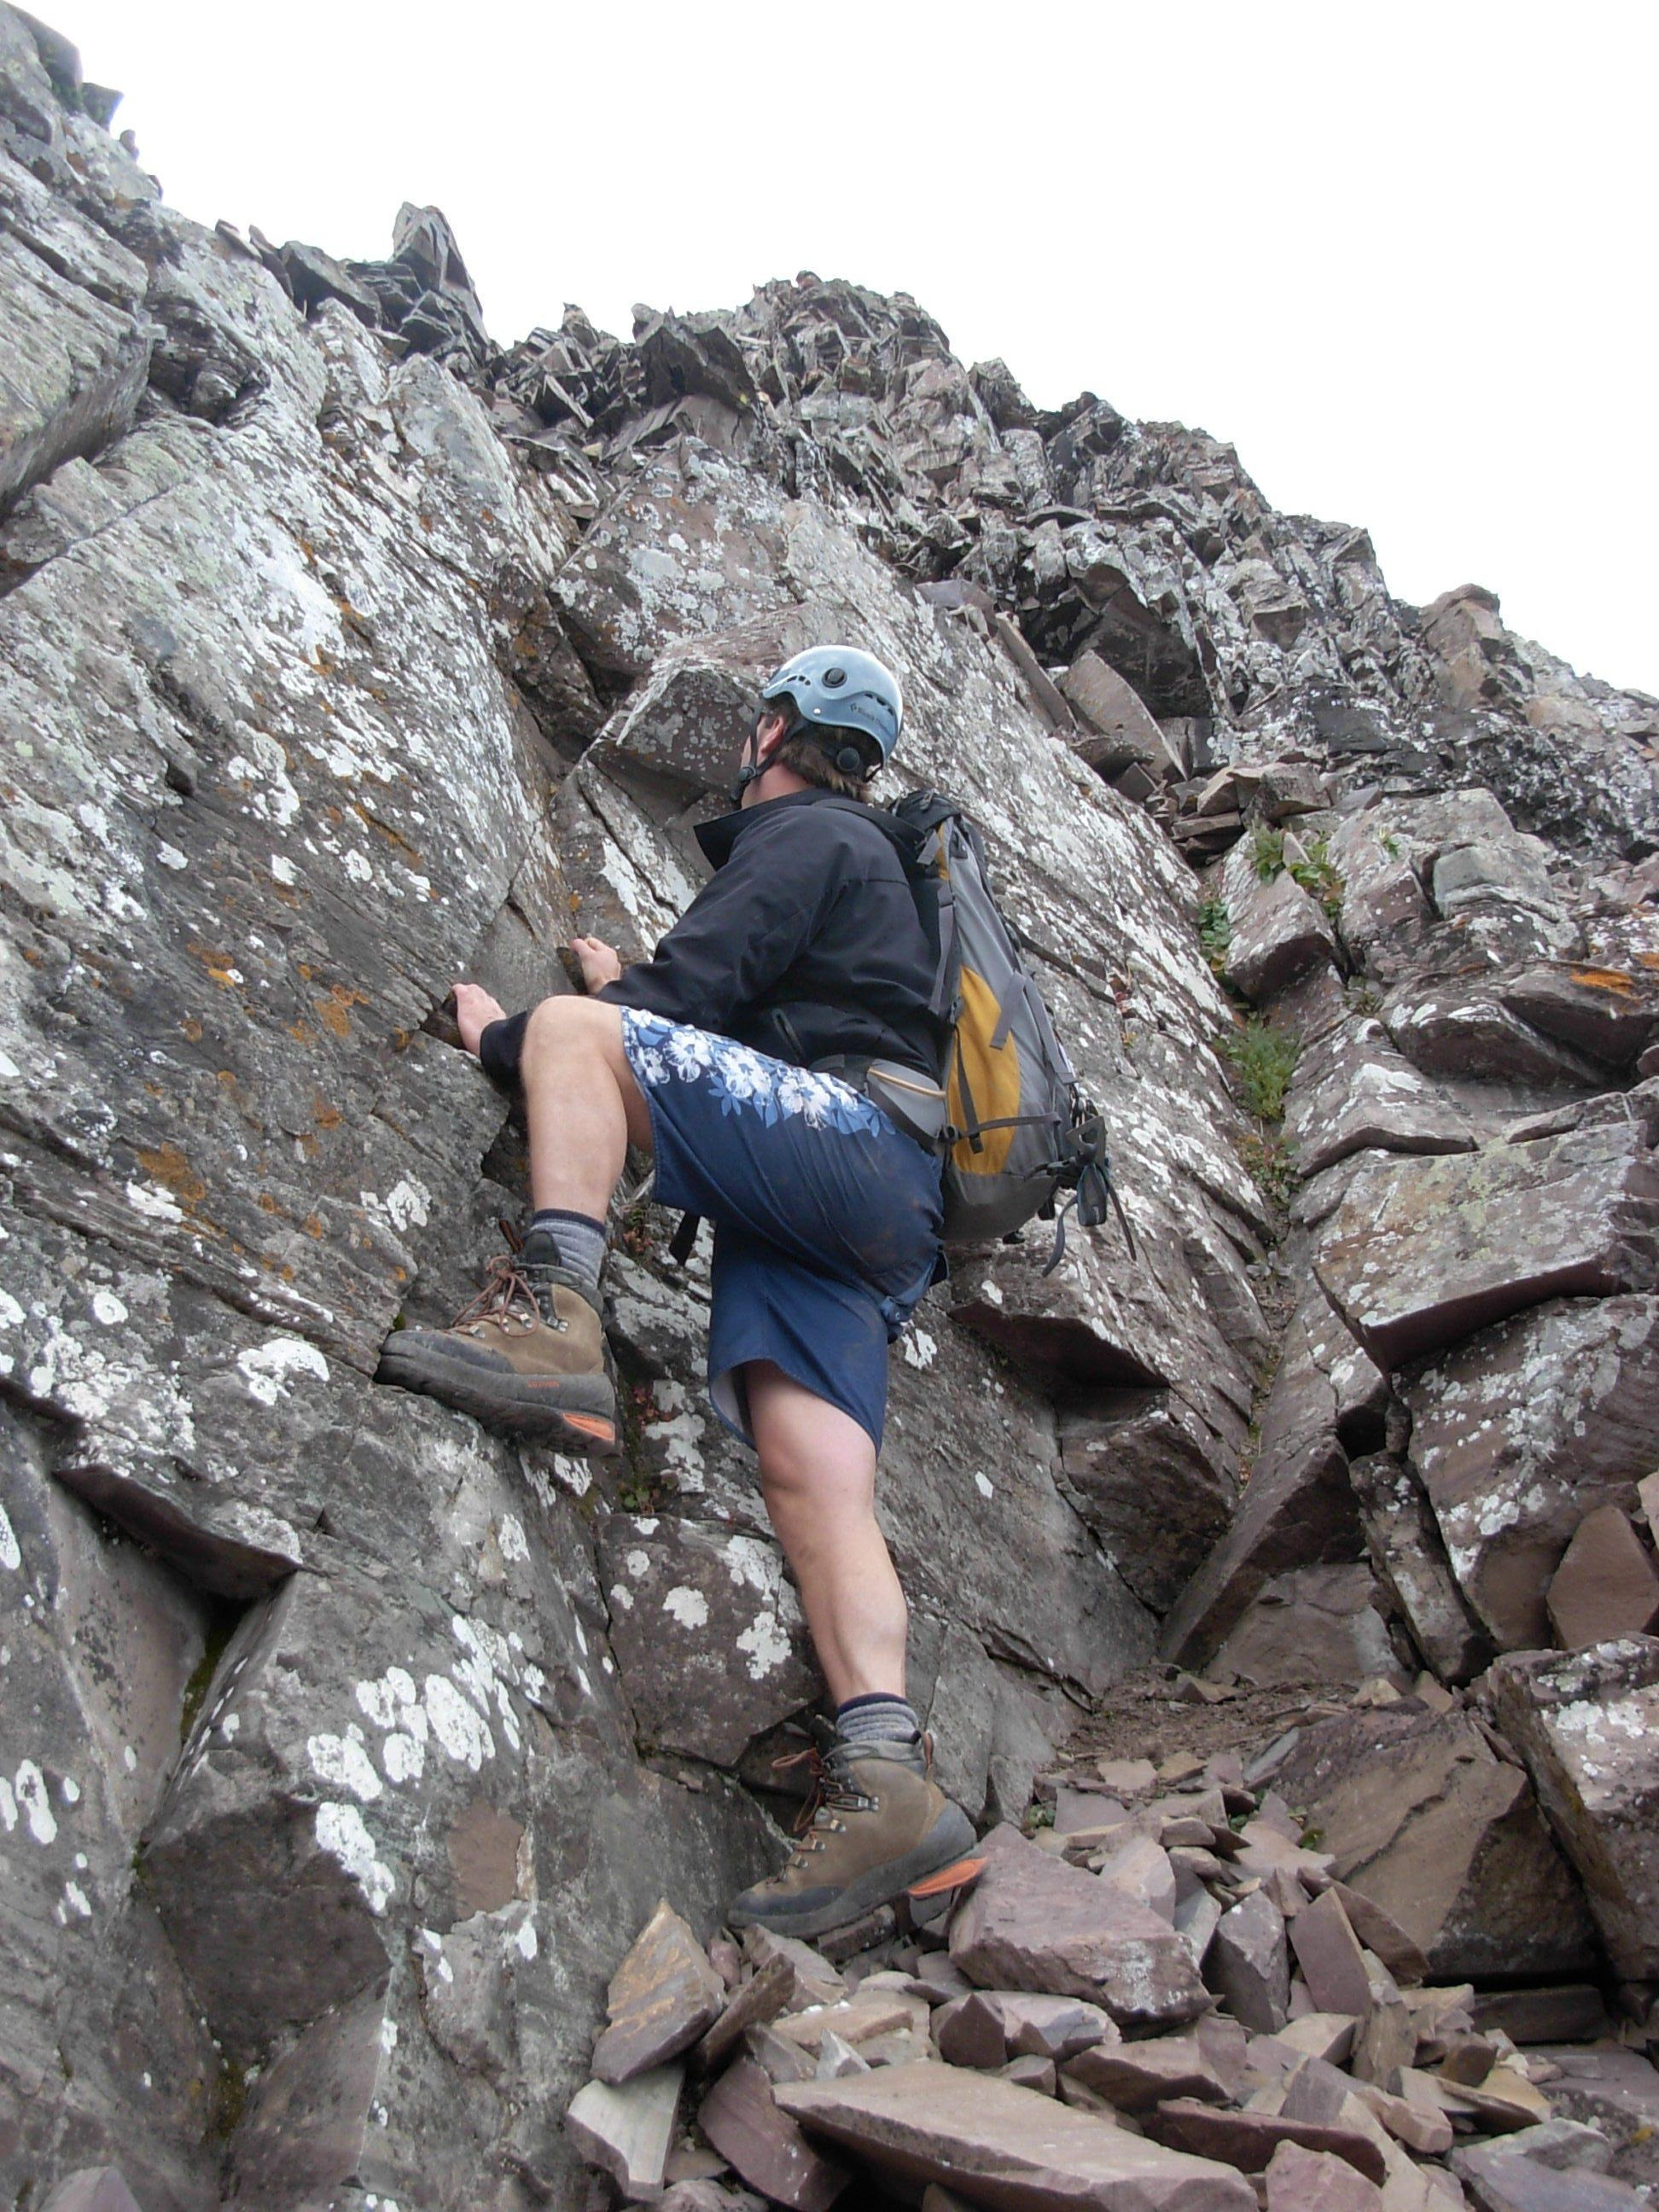helmet: (748, 632, 917, 784)
